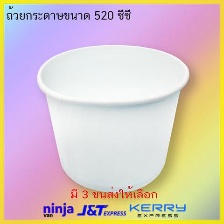paper_cup: (32, 40, 194, 196)
